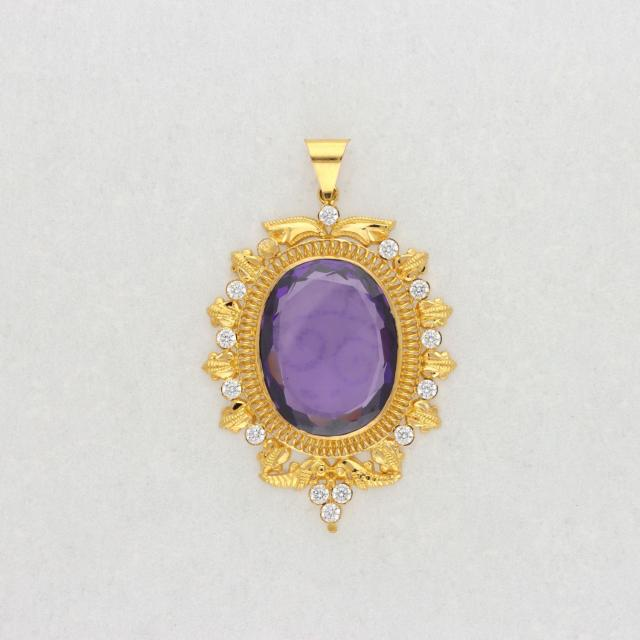missing gem: (258, 239, 277, 259)
